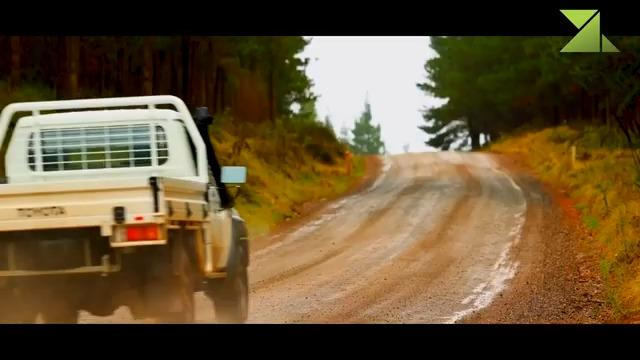MIL_HMMWV: (0, 95, 250, 323)
